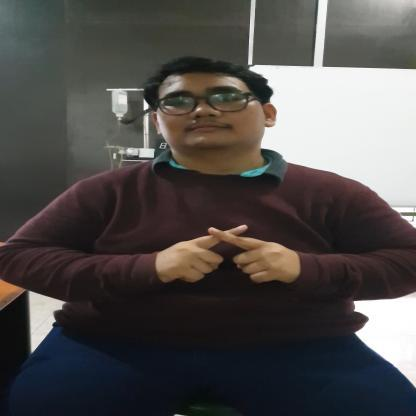X: (163, 224, 294, 284)
